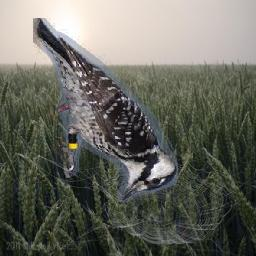Woodpecker: (34, 18, 179, 202)
